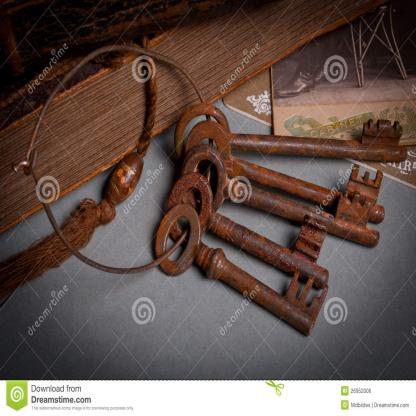key: (155, 105, 386, 334)
